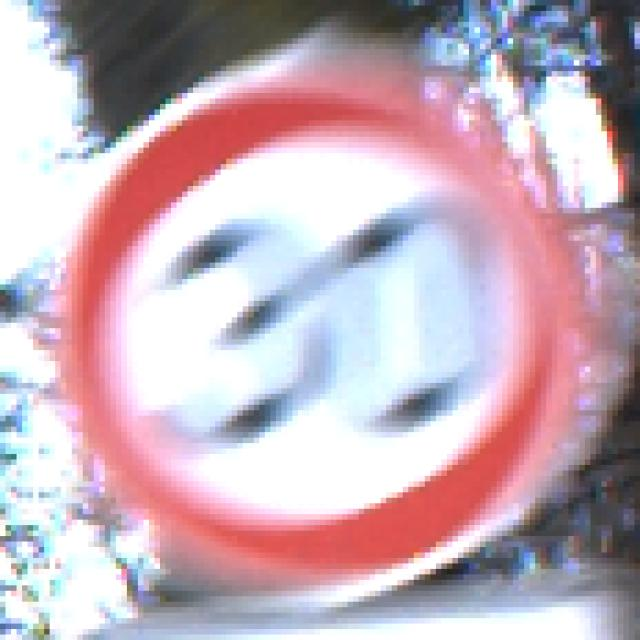Speed Limit -30-: (52, 52, 582, 583)
